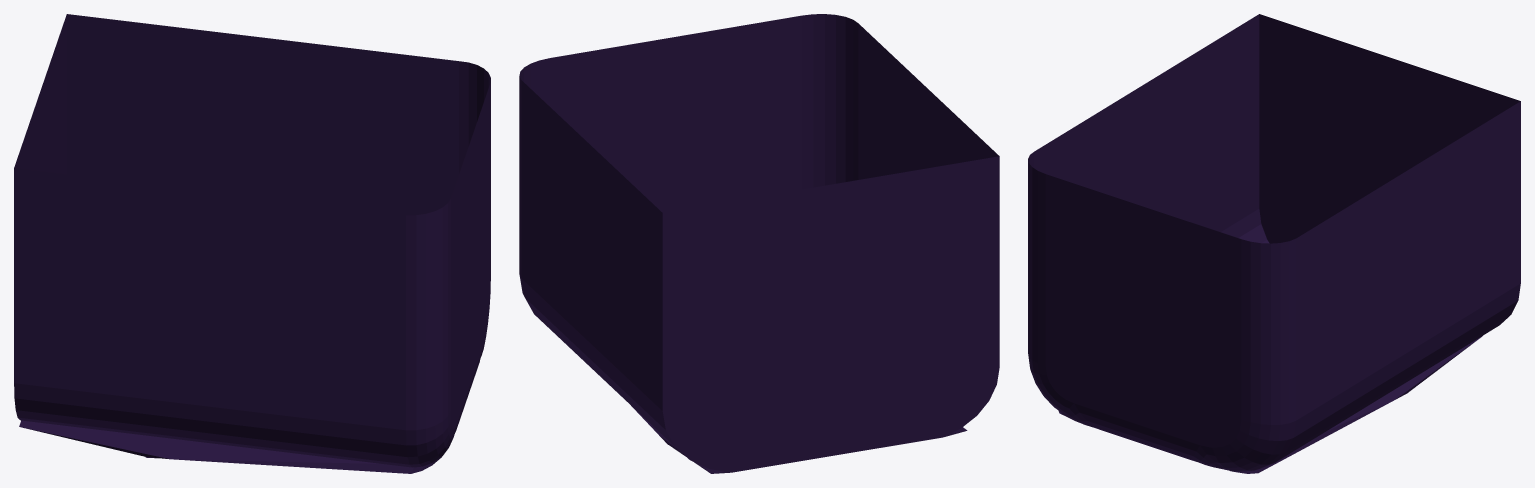
The model's file is INGLE_campus_map_way.glb.
3 views of the same model, side by side, from view 1: azimuth 30°, elevation 25°; view 2: azimuth 150°, elevation 25°; view 3: azimuth 270°, elevation 25° (orthographic). The views are drawn at different scales.
Visible parts, largest first — view 1: Cube.006; view 2: Cube.006; view 3: Cube.006.
Boxes of the visible parts, box(x1,y1,x2,y2) form: Cube.006: box(14, 14, 490, 473); Cube.006: box(519, 14, 999, 473); Cube.006: box(1028, 14, 1520, 473).
Size of the model in its own units: 3584 by 2154 by 3552.
